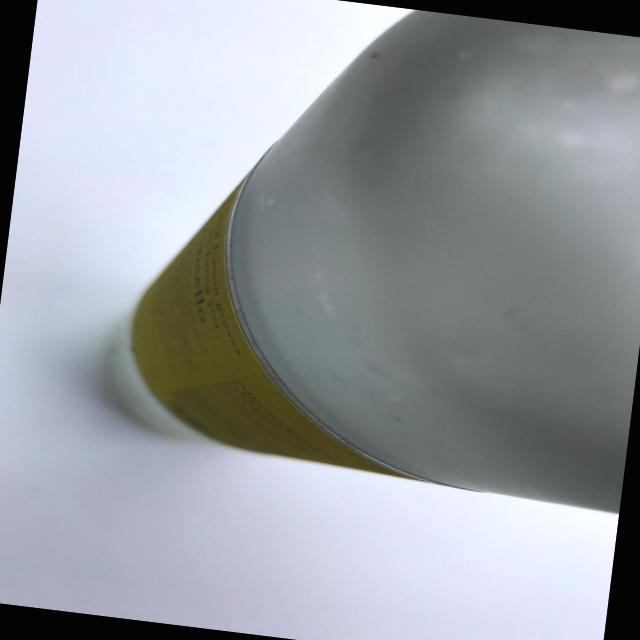Glass: (76, 0, 640, 519)
